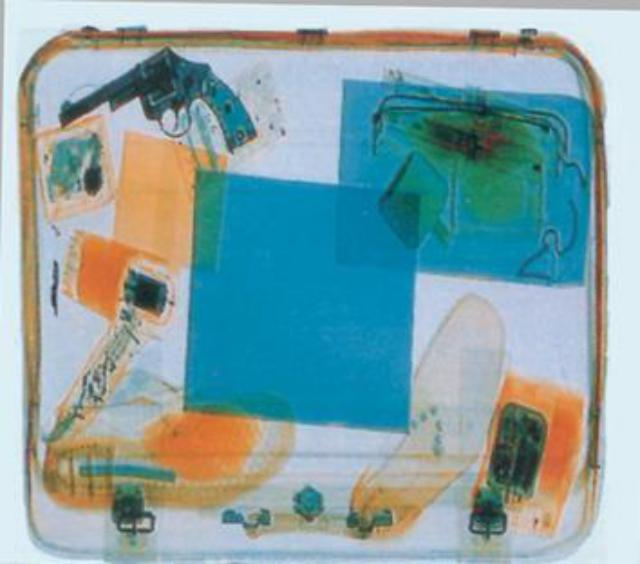Gun: (54, 42, 258, 153)
